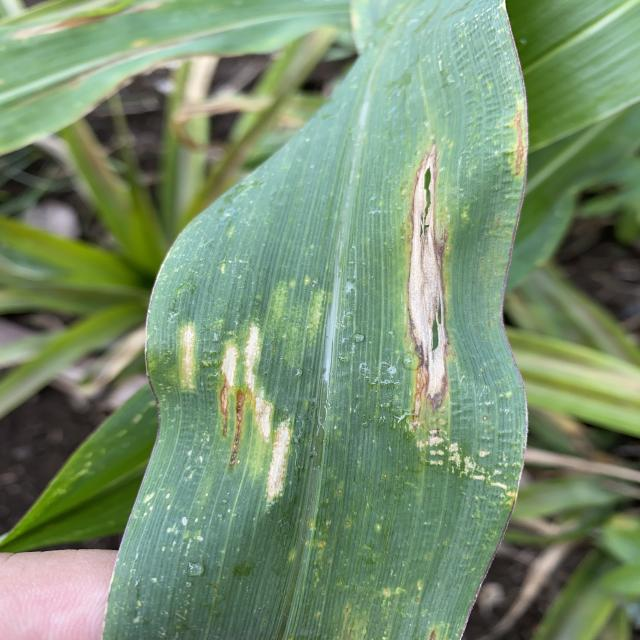Corn_Leaf_Blight: (140, 0, 530, 640)
